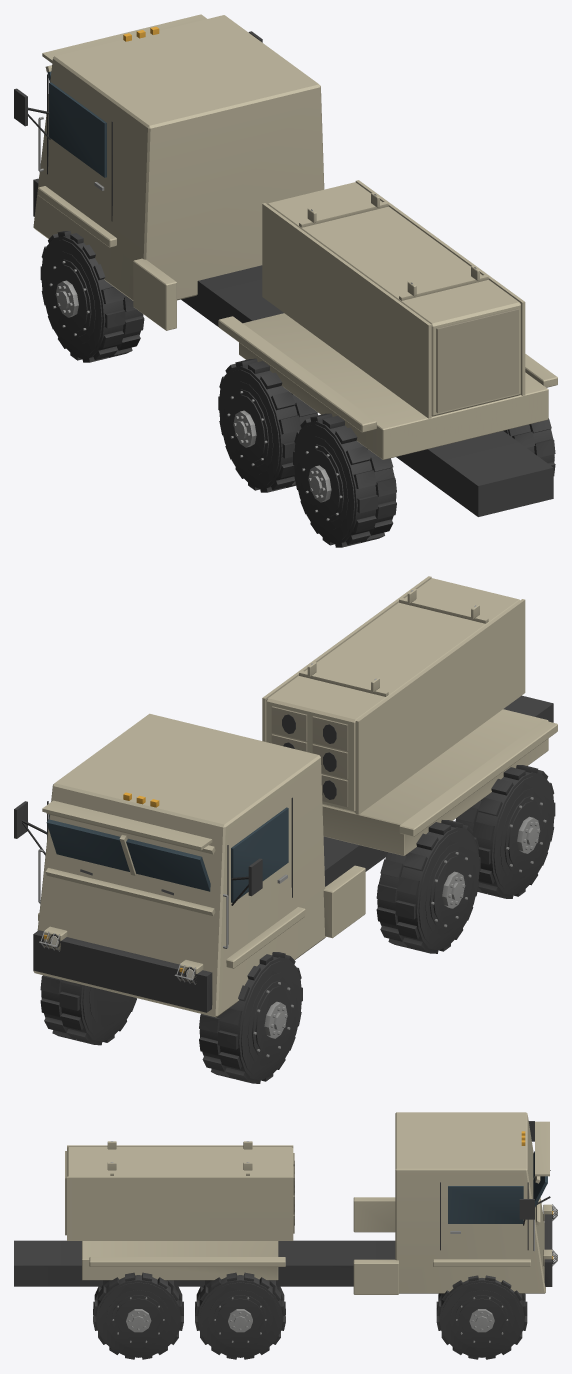
The model's file is usa_mlrs_himars.glb.
The picture shows the model from 3 angles, top to bottom: view 1: azimuth 30°, elevation 25°; view 2: azimuth 150°, elevation 25°; view 3: azimuth 270°, elevation 25°; orthographic projection. The views are drawn at different scales.
Visible parts, largest first — view 1: body, barrel, turret, wheel_4, wheel_0, wheel_2, wheel_5; view 2: body, barrel, wheel_2, turret, wheel_0, wheel_4, wheel_1; view 3: body, barrel, wheel_3, wheel_5, wheel_1, turret.
Boxes of the visible parts, left/top/right/bottom form: body: left=14, top=14, right=557, bottom=516; barrel: left=262, top=180, right=525, bottom=418; turret: left=239, top=313, right=548, bottom=459; wheel_4: left=293, top=413, right=396, bottom=547; wheel_0: left=40, top=231, right=144, bottom=362; wheel_2: left=218, top=358, right=317, bottom=492; wheel_5: left=503, top=418, right=555, bottom=475; body: left=14, top=695, right=557, bottom=1017; barrel: left=262, top=576, right=525, bottom=814; wheel_2: left=376, top=820, right=480, bottom=953; turret: left=322, top=709, right=548, bottom=855; wheel_0: left=199, top=952, right=302, bottom=1083; wheel_4: left=455, top=765, right=555, bottom=898; wheel_1: left=40, top=975, right=136, bottom=1045; body: left=14, top=1112, right=557, bottom=1294; barrel: left=65, top=1141, right=294, bottom=1240; wheel_3: left=195, top=1272, right=285, bottom=1359; wheel_5: left=93, top=1272, right=183, bottom=1359; wheel_1: left=436, top=1275, right=527, bottom=1359; turret: left=82, top=1241, right=278, bottom=1280.
Bounding box in the file's own units: 2.4 × 2.7 × 7.
